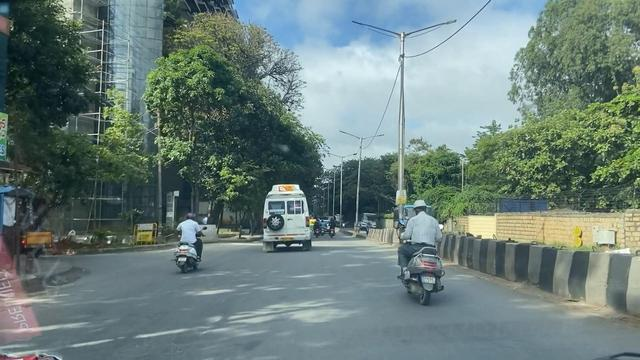HMV: (261, 183, 320, 252)
LMV: (406, 202, 448, 309), (175, 211, 205, 277)
